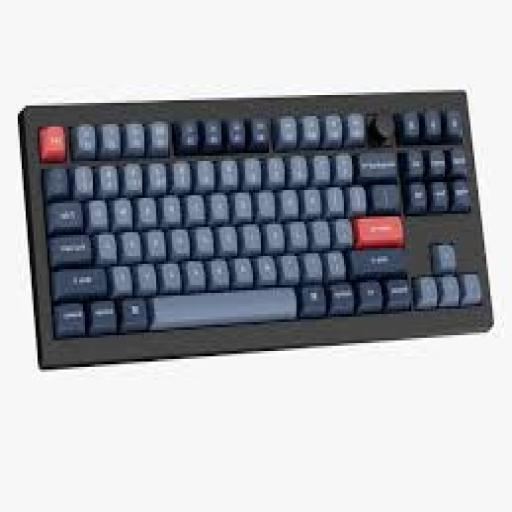keyboard: (20, 92, 490, 367)
